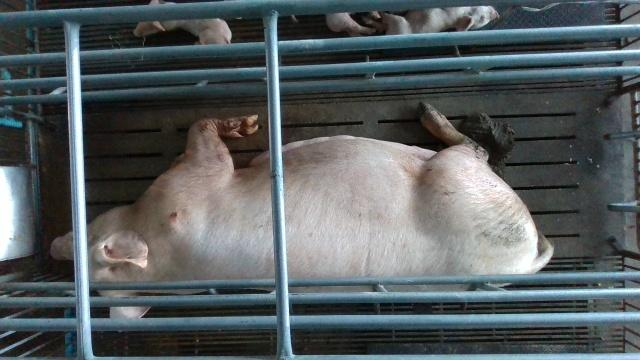piglet: (381, 6, 501, 55), (134, 0, 231, 44)
sow-sleep: (52, 103, 558, 321)
